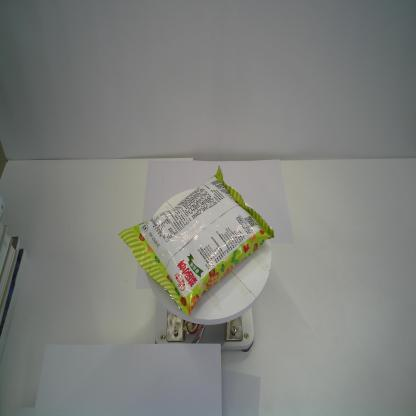Puffed Food: (117, 165, 276, 318)
